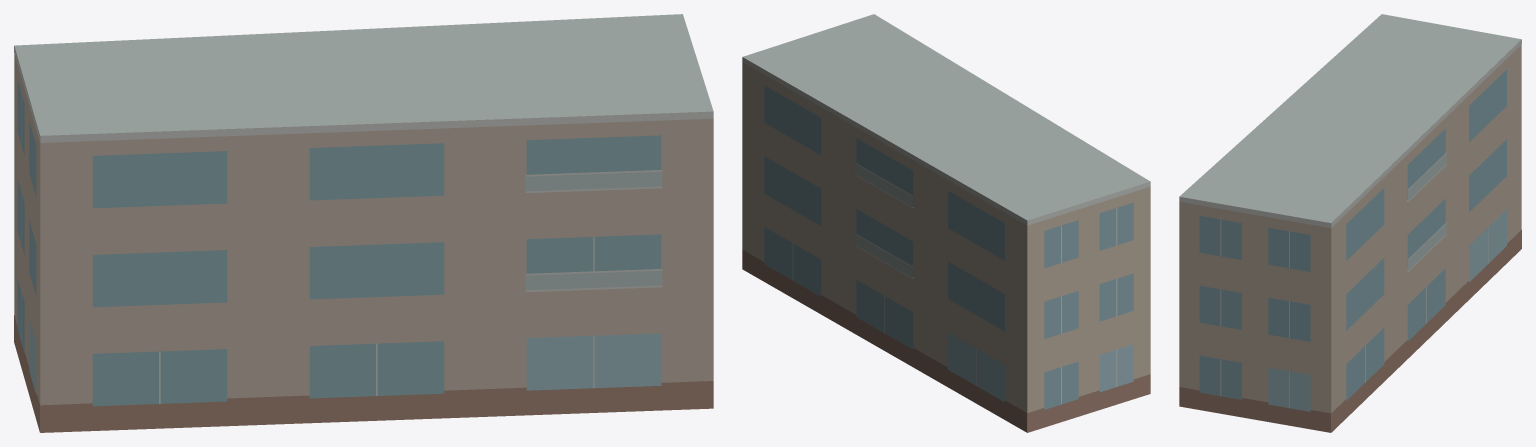
Rendered from survey-upis-32527535.glb.
3 renders of one model, left to right at view 1: azimuth 30°, elevation 25°; view 2: azimuth 150°, elevation 25°; view 3: azimuth 270°, elevation 25°, orthographic. The views are drawn at different scales.
Visible parts, largest first — view 1: survey-upis-32527535.tmp; view 2: survey-upis-32527535.tmp; view 3: survey-upis-32527535.tmp.
Boxes of the visible parts, x1=… form: survey-upis-32527535.tmp: x1=14, y1=14, x2=713, y2=432; survey-upis-32527535.tmp: x1=742, y1=14, x2=1150, y2=432; survey-upis-32527535.tmp: x1=1179, y1=14, x2=1521, y2=432.
Size of the model in its own units: 21.82 by 10.2 by 15.11.
